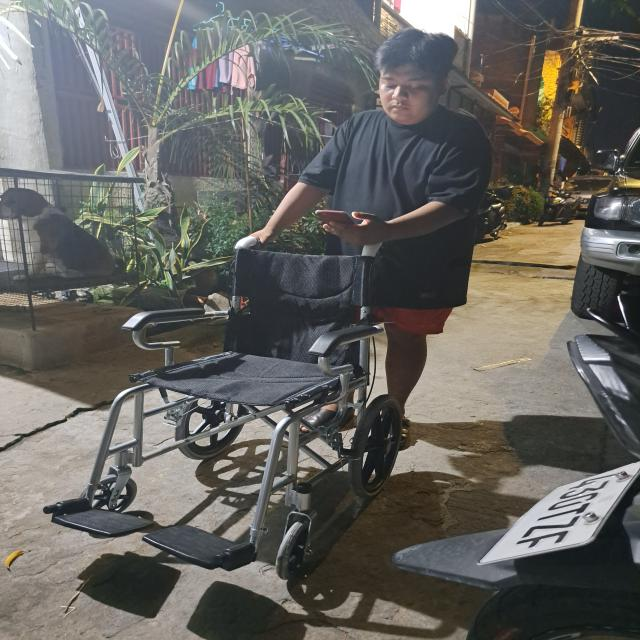wheelchairs: (70, 230, 414, 592)
